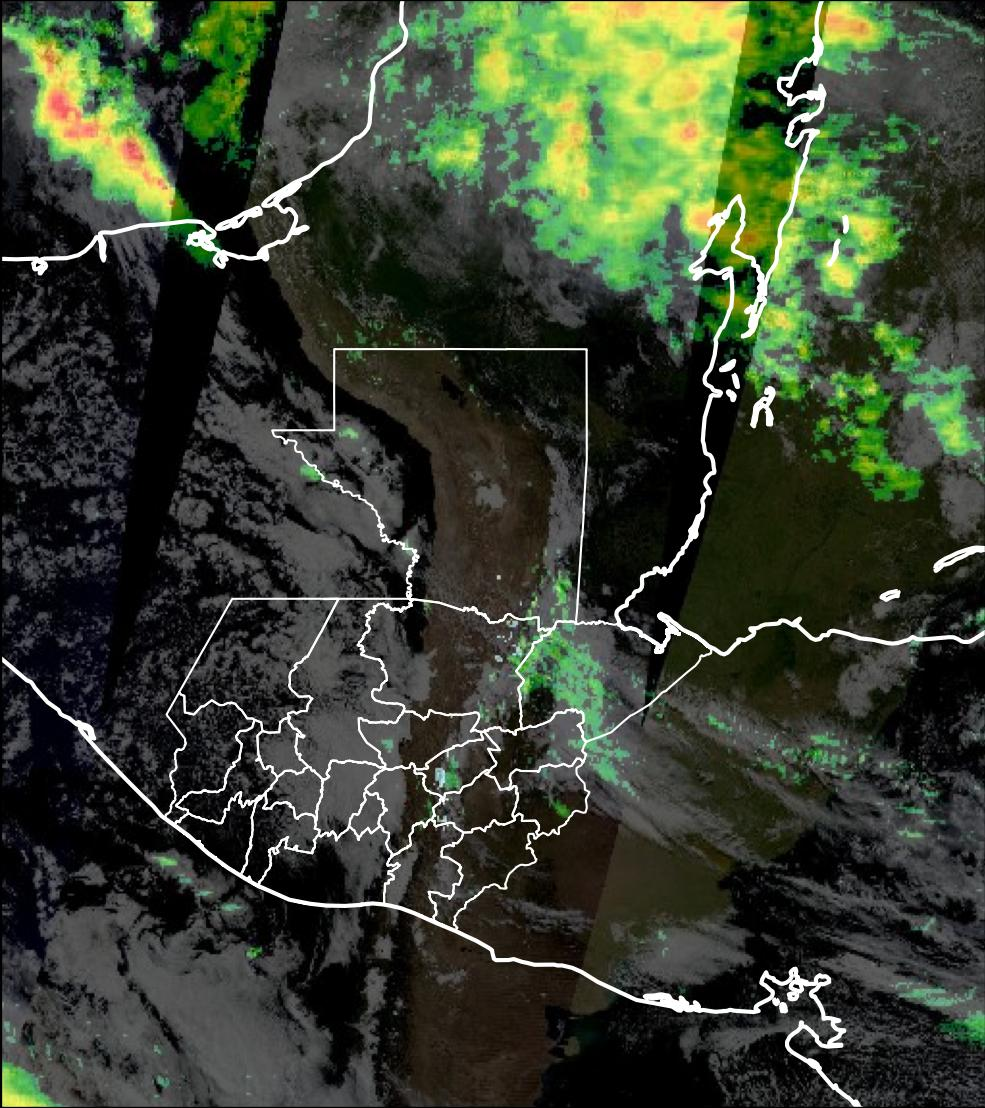precipitacion: (32, 46, 184, 213)
